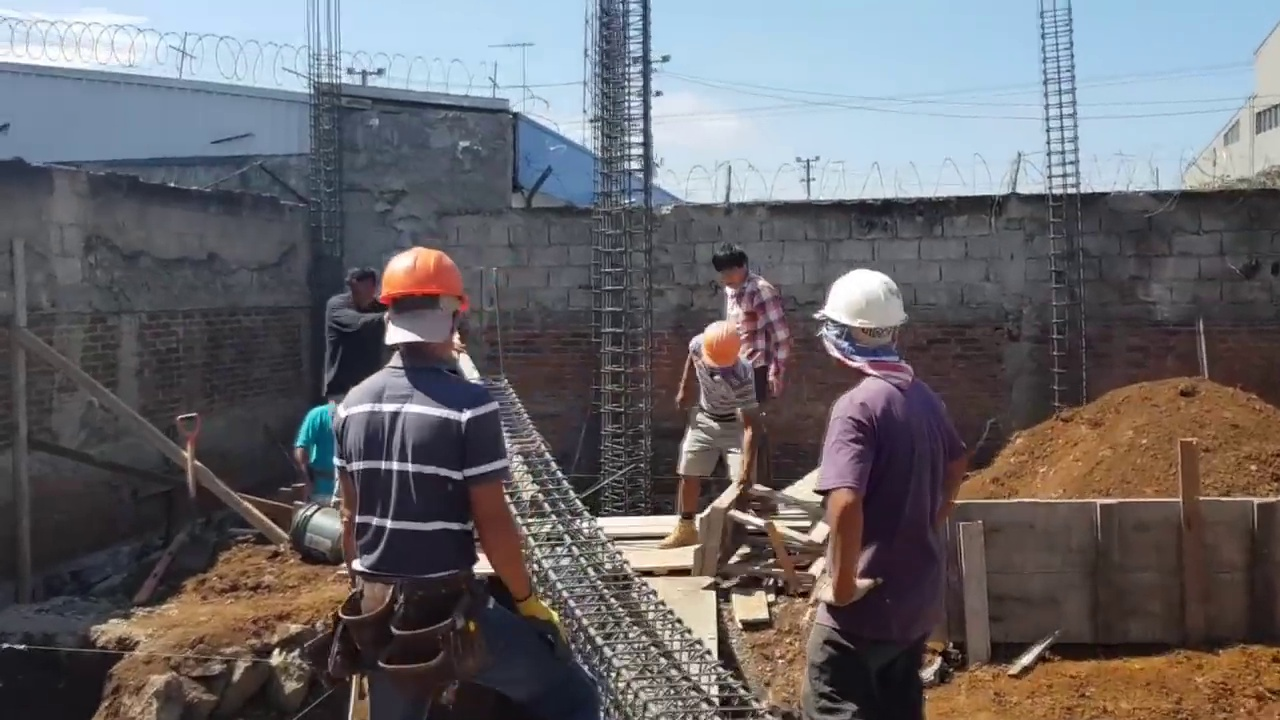helmet: (813, 267, 911, 331), (375, 240, 465, 306), (700, 321, 741, 366)
helmet-off: (712, 243, 757, 296), (342, 264, 378, 299)
helmet-on: (375, 240, 465, 367), (811, 267, 912, 376), (696, 317, 741, 372)
person: (328, 241, 560, 717), (810, 268, 966, 720), (658, 318, 758, 548), (712, 246, 793, 483), (321, 263, 387, 404), (295, 381, 339, 511)
